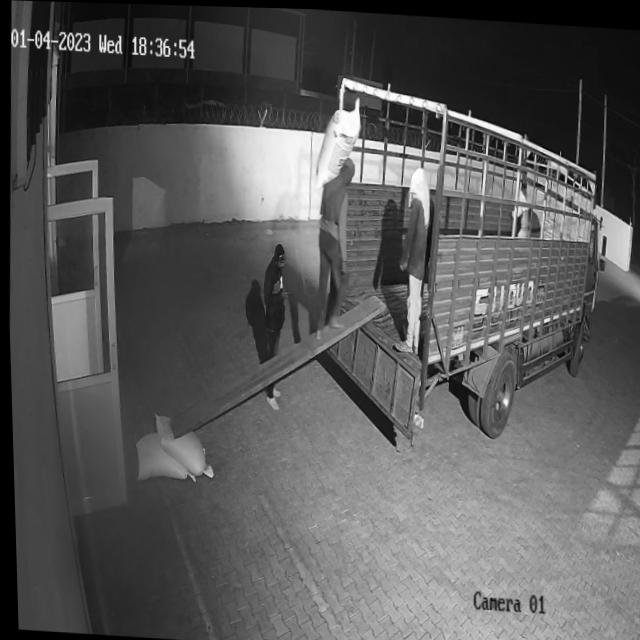sack: (310, 93, 361, 191), (149, 409, 212, 476), (130, 428, 194, 480)
